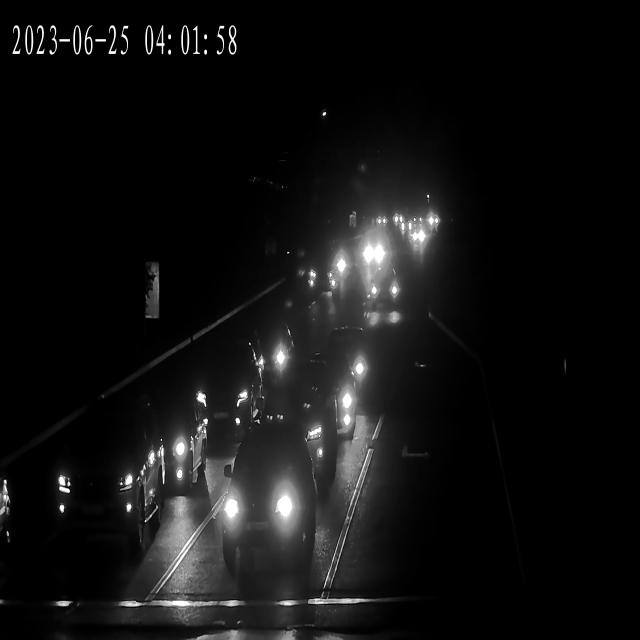Car: (43, 416, 162, 550), (213, 436, 321, 582), (114, 387, 209, 503), (176, 346, 262, 436), (286, 363, 366, 445), (236, 321, 297, 382), (296, 260, 338, 291), (365, 272, 401, 307), (355, 237, 387, 264), (407, 229, 428, 245), (371, 214, 390, 229), (392, 217, 409, 233), (422, 215, 439, 229)
